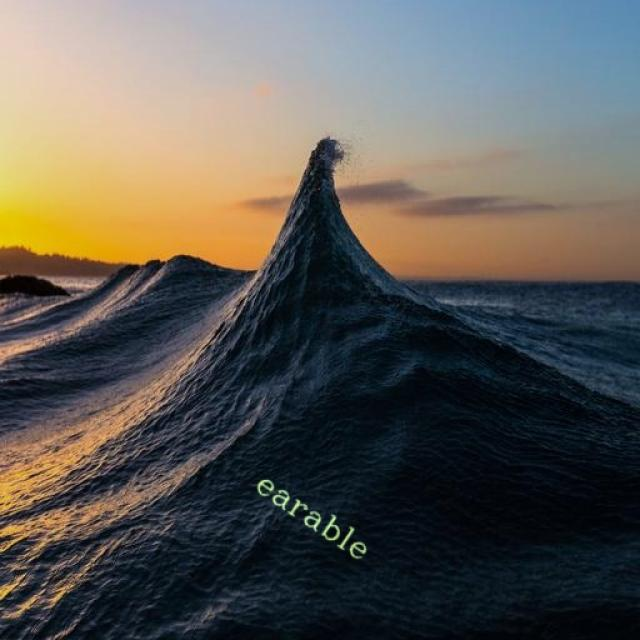watermark: (244, 464, 384, 567)
